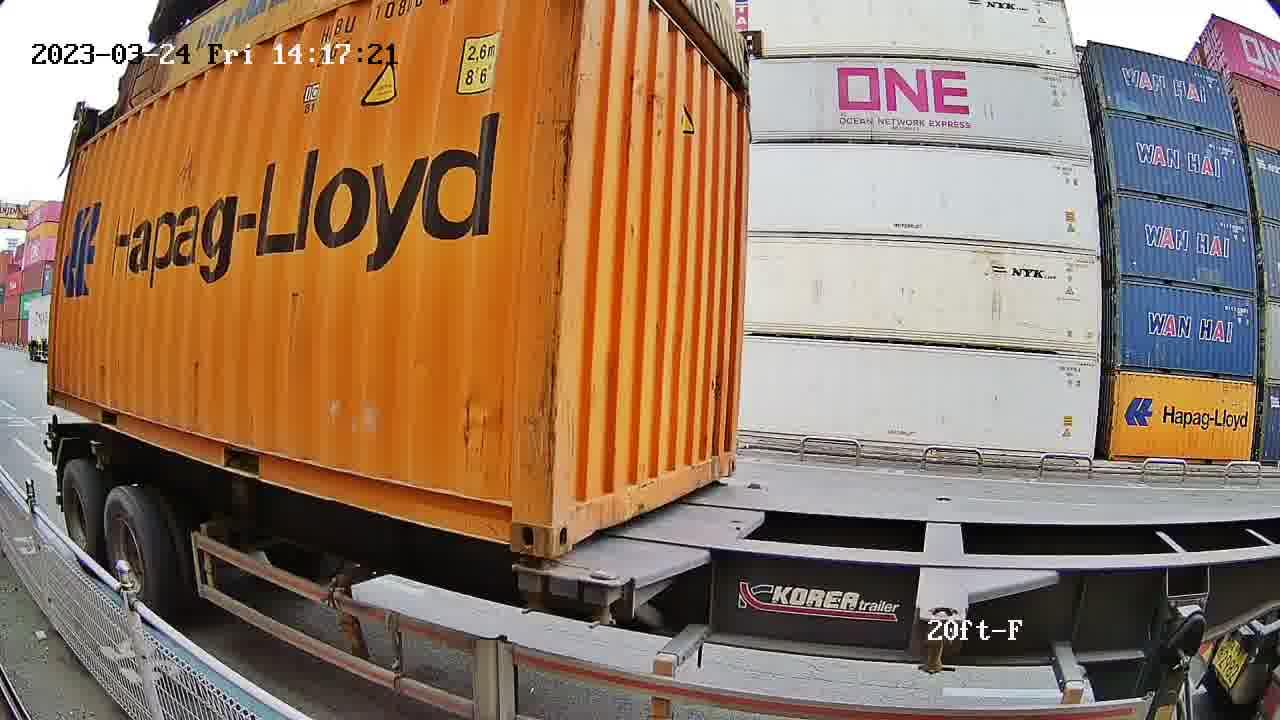Chassis: (586, 484, 767, 586)
Cone: (583, 570, 627, 629), (515, 554, 550, 615)
Hole_L: (551, 466, 596, 558)
Hole_R: (474, 473, 553, 558), (712, 432, 738, 483)
Tire: (107, 491, 161, 613), (63, 464, 100, 565)
